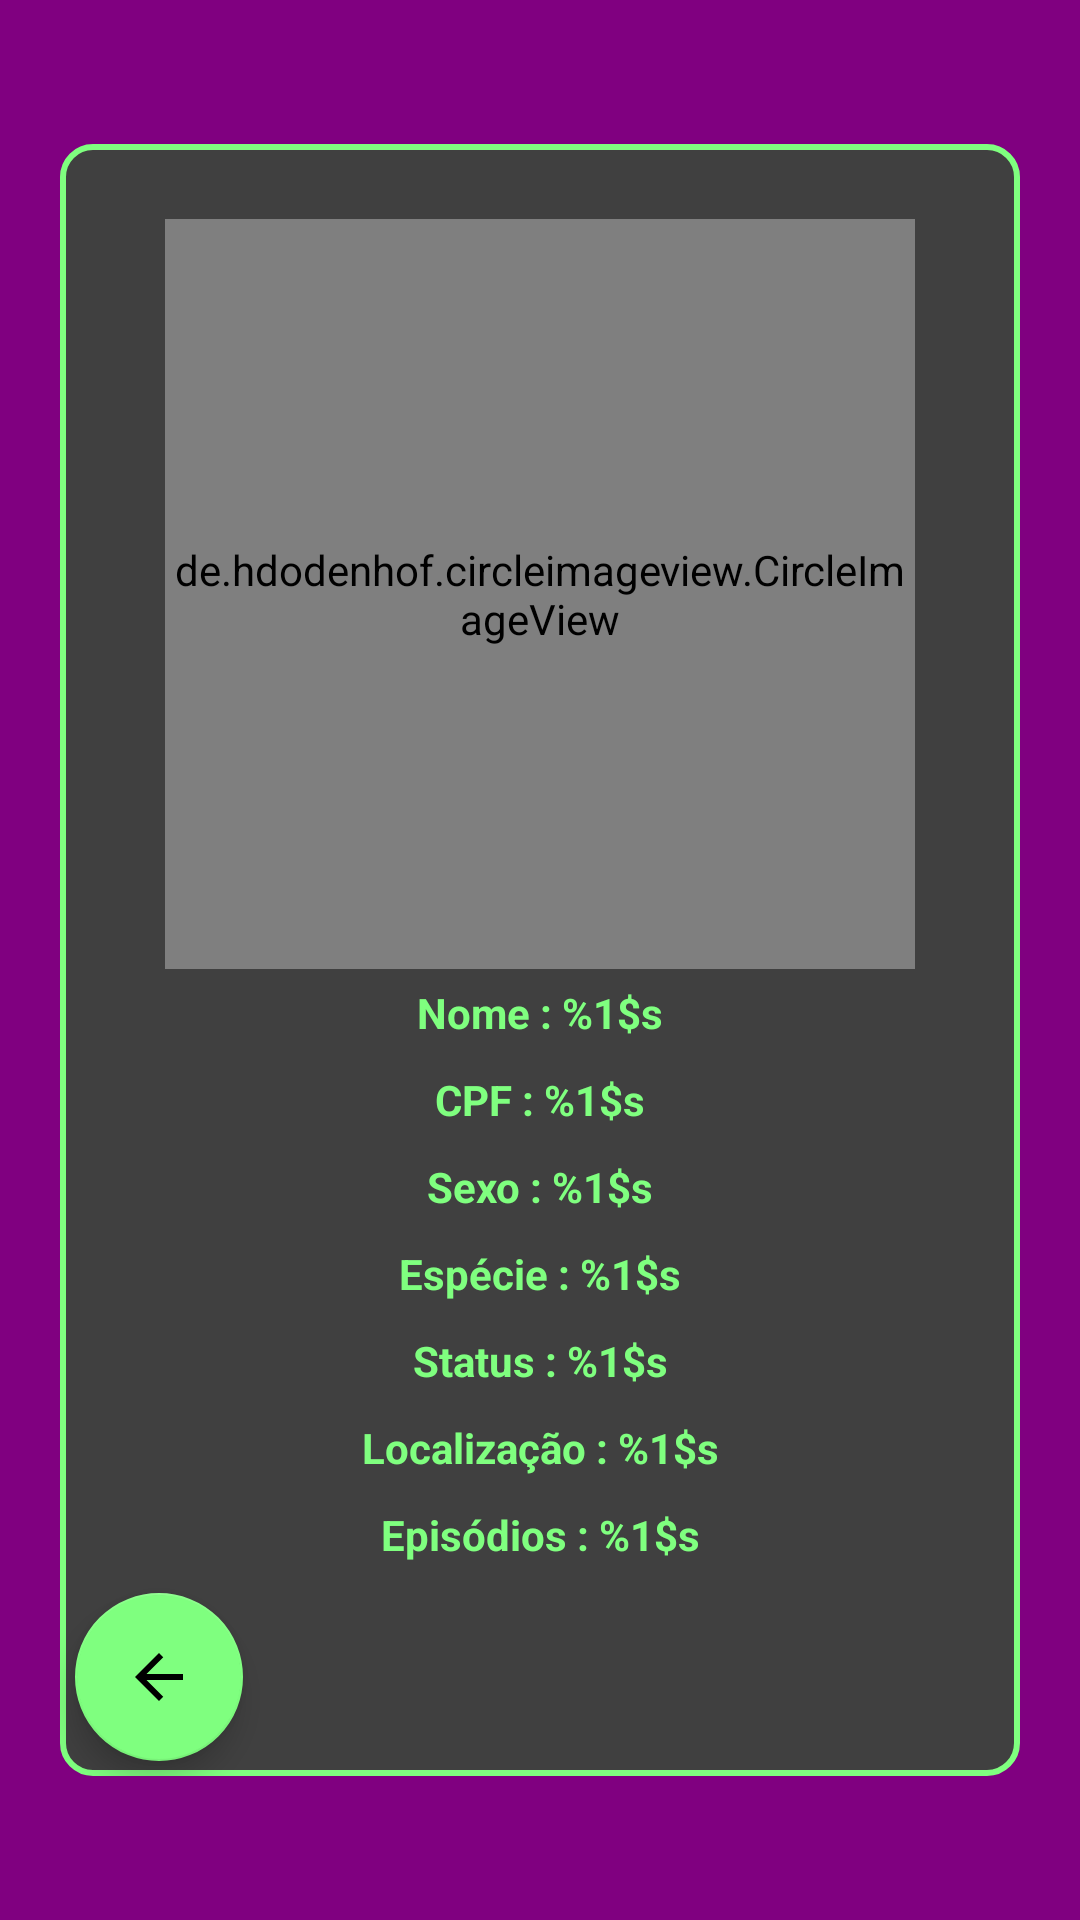

Named icons in this screenshot (1080 x 1920) and their bounding boxes, box=[x1, y1, x2, y2]:
arrow back: box=[75, 1593, 243, 1761]
